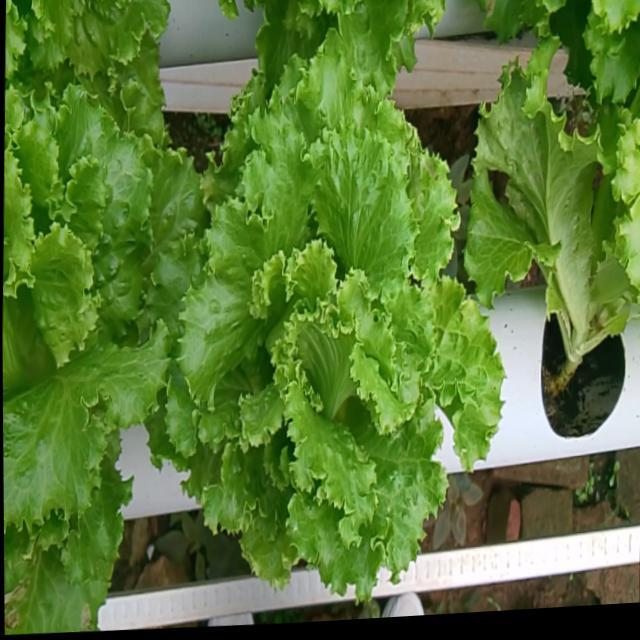Mature: (166, 61, 502, 602), (2, 91, 202, 539)
